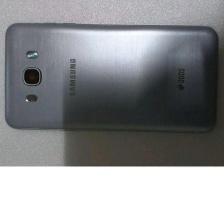phone: (2, 20, 221, 134)
